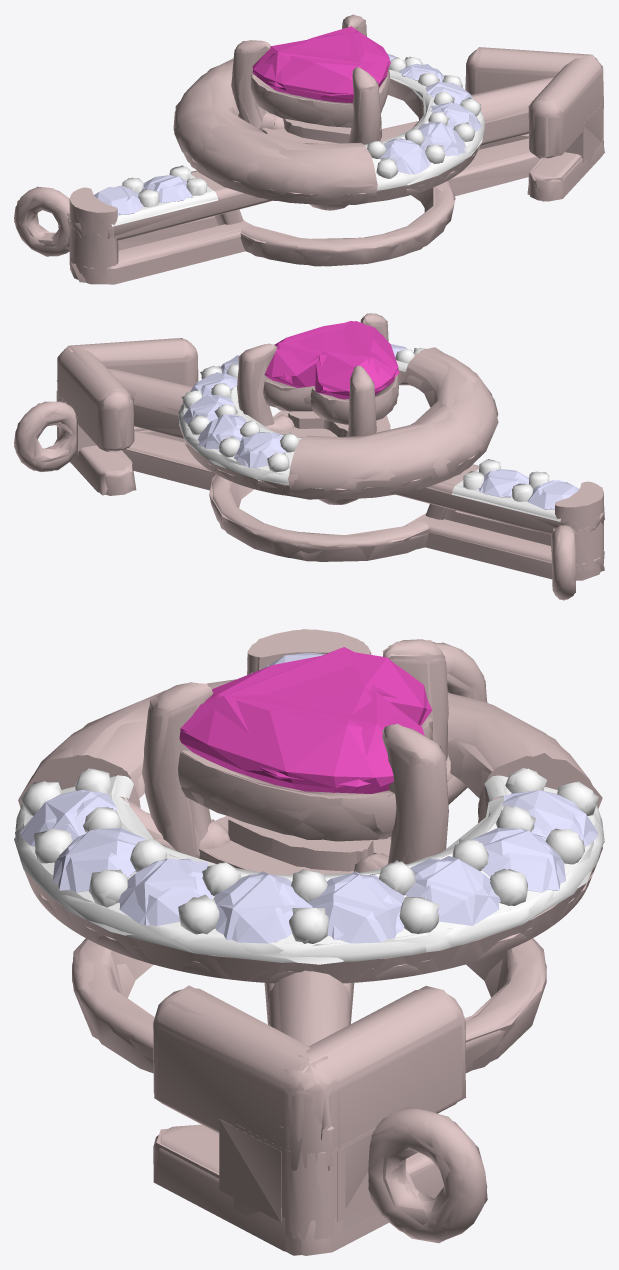
The model's file is DCP-D000733449.glb.
The picture shows the model from 3 angles, top to bottom: view 1: azimuth 30°, elevation 25°; view 2: azimuth 150°, elevation 25°; view 3: azimuth 270°, elevation 25°; orthographic projection. The views are drawn at different scales.
Visible parts, largest first — view 1: highPolyMesh, lowPolyMesh; view 2: highPolyMesh, lowPolyMesh; view 3: highPolyMesh, lowPolyMesh.
Part boxes in pixels (left/top/right/bottom): highPolyMesh: left=14, top=15, right=603, bottom=284; lowPolyMesh: left=14, top=14, right=604, bottom=282; highPolyMesh: left=14, top=313, right=604, bottom=599; lowPolyMesh: left=14, top=313, right=604, bottom=600; highPolyMesh: left=15, top=629, right=604, bottom=1255; lowPolyMesh: left=14, top=629, right=604, bottom=1255.
Size of the model in its own units: 0.0181 by 0.00536 by 0.00893.
